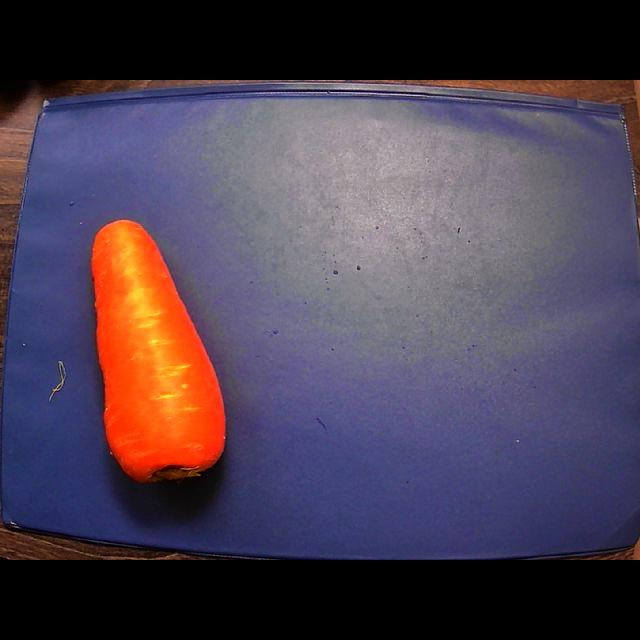zanahoria: (91, 219, 226, 482)
